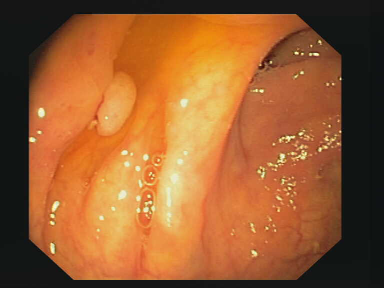polyp: (93, 59, 140, 144)
